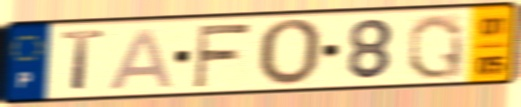8: (346, 17, 395, 82)
A: (105, 26, 177, 92)
F: (191, 21, 254, 90)
O: (255, 16, 326, 89)
Q: (406, 11, 466, 82)
T: (60, 28, 109, 93)
